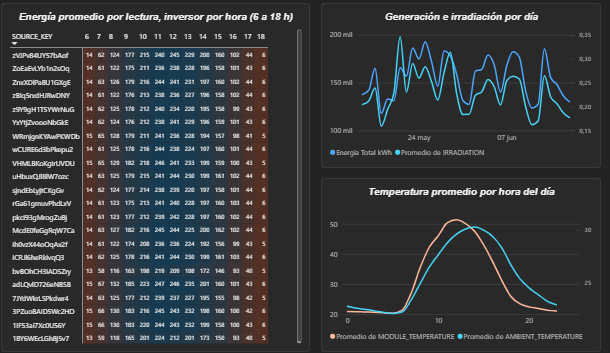

This screenshot's page, from the dashboard's own definition file:
{"tool":"powerbi","page":{"name":"Clima y rendimiento por inversor","canvas":[1920,1080],"ordinal":1},"visuals":[{"type":"lineChart","title":"Generación e irradiación por día","fields":{"Category":["Clima_P1.DATE"],"Y":["Generacion_P1.Energia Total kWh"],"Y2":["Avg(Clima_P1.IRRADIATION)"]},"box":[680,20,560,330],"z":0},{"type":"pivotTable","title":"Energía promedio por lectura, inversor por hora (6 a 18 h)","fields":{"Columns":["Generacion_P1.HOUR_OF_DAY"],"Rows":["Generacion_P1.SOURCE_KEY"],"Values":["Generacion_P1.Energia Promedio por Lectura"]},"box":[40,20,617.5,697.5],"z":1},{"type":"lineChart","title":"Temperatura promedio por hora del día","fields":{"Category":["Clima_P1.Hora"],"Y":["Avg(Clima_P1.MODULE_TEMPERATURE)"],"Y2":["Avg(Clima_P1.AMBIENT_TEMPERATURE)"]},"box":[680,370,560,347.5],"z":2}]}

Visuals, with their boxes in screenshot pixels (x1, y1, x2, y2), scaled from the page's 1920x1080 canvas onto the 610x353 screenshot:
"Generación e irradiación por día" lineChart: (216, 7, 394, 114)
"Energía promedio por lectura, inversor por hora (6 a 18 h)" pivotTable: (13, 7, 209, 235)
"Temperatura promedio por hora del día" lineChart: (216, 121, 394, 235)
